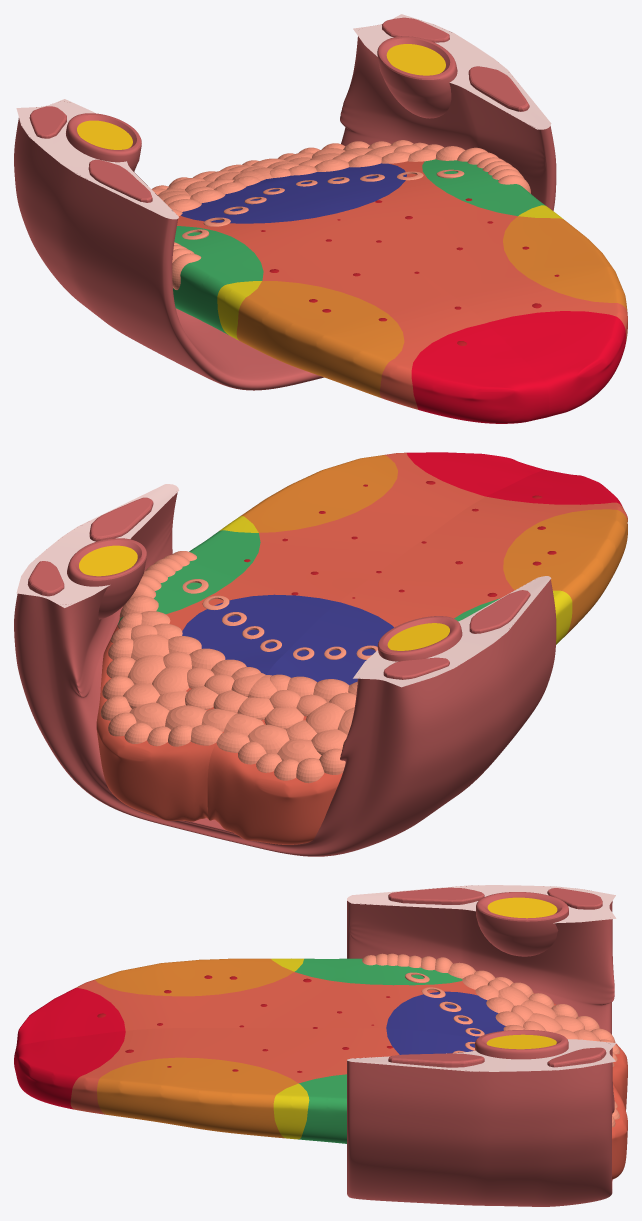
File: tongue-model.glb
The picture shows the model from 3 angles, top to bottom: view 1: azimuth 30°, elevation 25°; view 2: azimuth 150°, elevation 25°; view 3: azimuth 270°, elevation 25°; orthographic projection. The views are drawn at different scales.
Visible parts, largest first — view 1: Cube_1, Lidah_0, Lidah asin_11, Lidah manis_10, Lidah asam_13, Sphere.016_5, Lidah pahit_12, Cube.001_9, Sphere_2, Plane.004_3, Sphere.001_8, Sphere.008_4 (+2 smaller); view 2: Cube_1, Lidah_0, Sphere.016_5, Lidah asin_11, Lidah pahit_12, Lidah manis_10, Cube.001_9, Plane.004_3, Lidah asam_13, Sphere_2, Sphere.001_8, Cylinder_6 (+2 smaller); view 3: Cube_1, Lidah_0, Lidah asin_11, Lidah manis_10, Lidah asam_13, Lidah pahit_12, Sphere.016_5, Sphere_2, Cube.001_9, Plane.004_3, Sphere.001_8, Lidah transisi_14 (+2 smaller).
Boxes of the visible parts, x1,y1,x2,y2 form: Cube_1: [14, 31, 556, 390]; Lidah_0: [177, 161, 627, 409]; Lidah asin_11: [236, 216, 627, 398]; Lidah manis_10: [411, 311, 625, 423]; Lidah asam_13: [173, 159, 545, 334]; Sphere.016_5: [151, 140, 465, 216]; Lidah pahit_12: [181, 163, 406, 223]; Cube.001_9: [16, 14, 551, 219]; Sphere_2: [66, 36, 457, 171]; Plane.004_3: [29, 17, 529, 202]; Sphere.001_8: [77, 44, 445, 149]; Sphere.008_4: [172, 147, 530, 289]; Cube_1: [14, 492, 556, 856]; Lidah_0: [96, 452, 627, 844]; Sphere.016_5: [100, 595, 357, 783]; Lidah asin_11: [240, 455, 627, 636]; Lidah pahit_12: [182, 594, 393, 685]; Lidah manis_10: [407, 452, 622, 506]; Cube.001_9: [16, 484, 551, 687]; Plane.004_3: [27, 497, 530, 679]; Lidah asam_13: [117, 530, 499, 624]; Sphere_2: [67, 538, 462, 661]; Sphere.001_8: [79, 545, 449, 650]; Cylinder_6: [182, 579, 377, 660]; Cube_1: [347, 886, 614, 1206]; Lidah_0: [70, 972, 627, 1179]; Lidah asin_11: [95, 958, 298, 1138]; Lidah manis_10: [14, 988, 125, 1109]; Lidah asam_13: [294, 958, 462, 1143]; Lidah pahit_12: [386, 991, 505, 1054]; Sphere.016_5: [448, 962, 620, 1127]; Sphere_2: [475, 892, 568, 1059]; Cube.001_9: [347, 885, 616, 1071]; Plane.004_3: [388, 887, 606, 1067]; Sphere.001_8: [486, 897, 557, 1049]; Lidah transisi_14: [271, 958, 309, 1139].
Size of the model in its own units: 1.97 by 0.8813 by 2.67.
